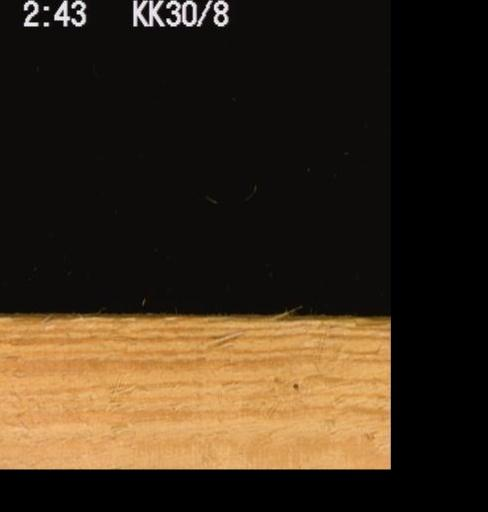small_knot: (281, 369, 307, 394)
